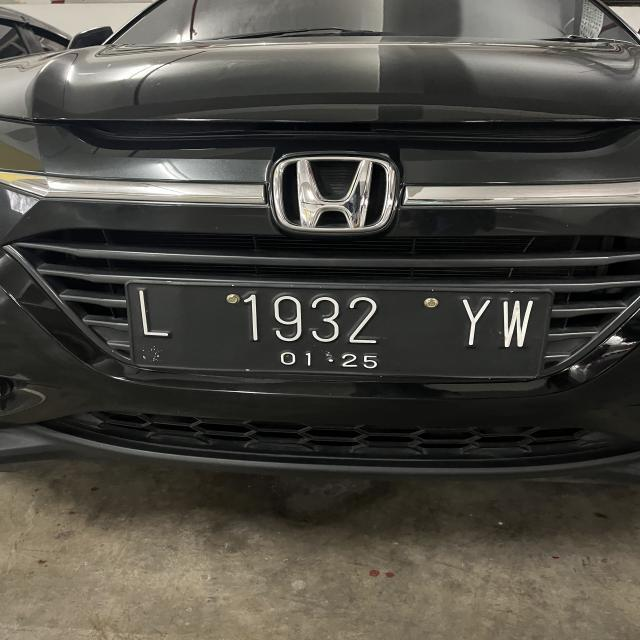1: (232, 290, 266, 338)
2: (346, 296, 380, 344)
3: (307, 293, 340, 341)
9: (266, 293, 304, 345)
L: (134, 290, 176, 347)
W: (499, 298, 534, 347)
Y: (463, 298, 491, 342)
